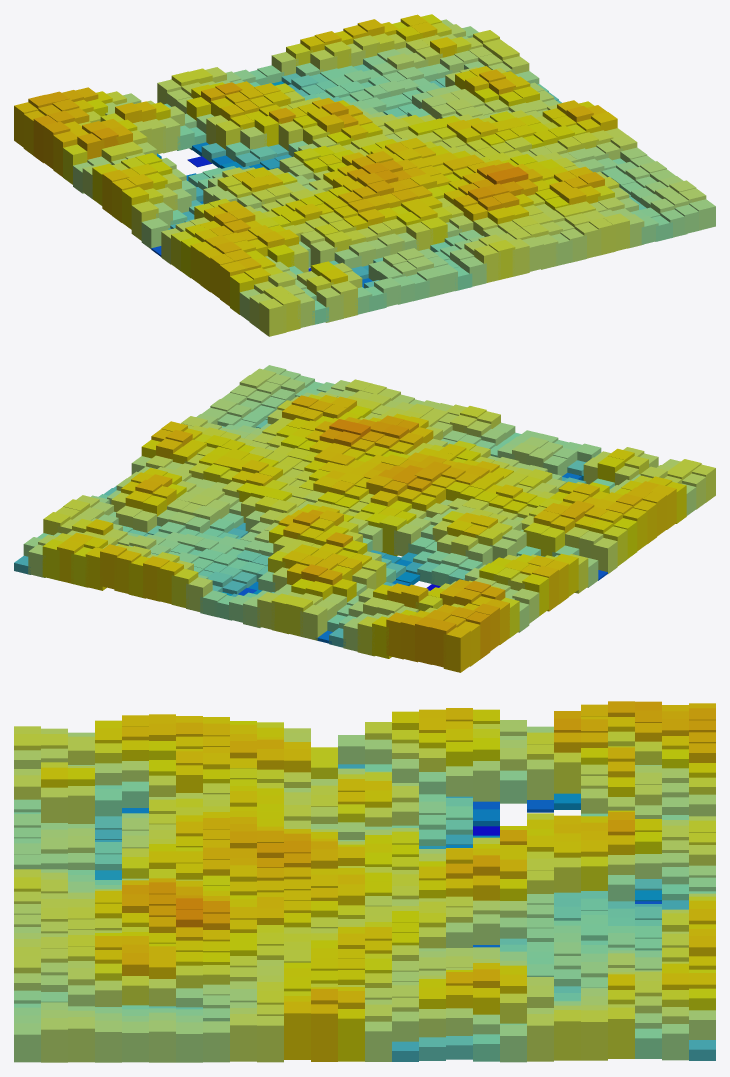
Rendered from population.glb.
The picture shows the model from 3 angles, top to bottom: view 1: azimuth 30°, elevation 25°; view 2: azimuth 150°, elevation 25°; view 3: azimuth 270°, elevation 25°; orthographic projection. The views are drawn at different scales.
Parts seen in each view (by area): view 1: population; view 2: population; view 3: population.
Part boxes in pixels (x1,y1,x2,y2): population: (14, 14, 715, 336); population: (14, 365, 715, 672); population: (14, 701, 715, 1062).
Bounding box in the file's own units: 2619 × 270 × 2591.
